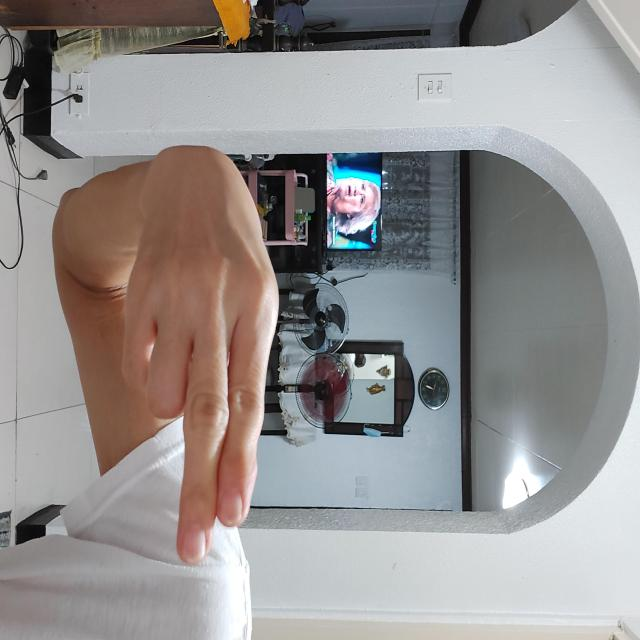H: (144, 360, 567, 519)
